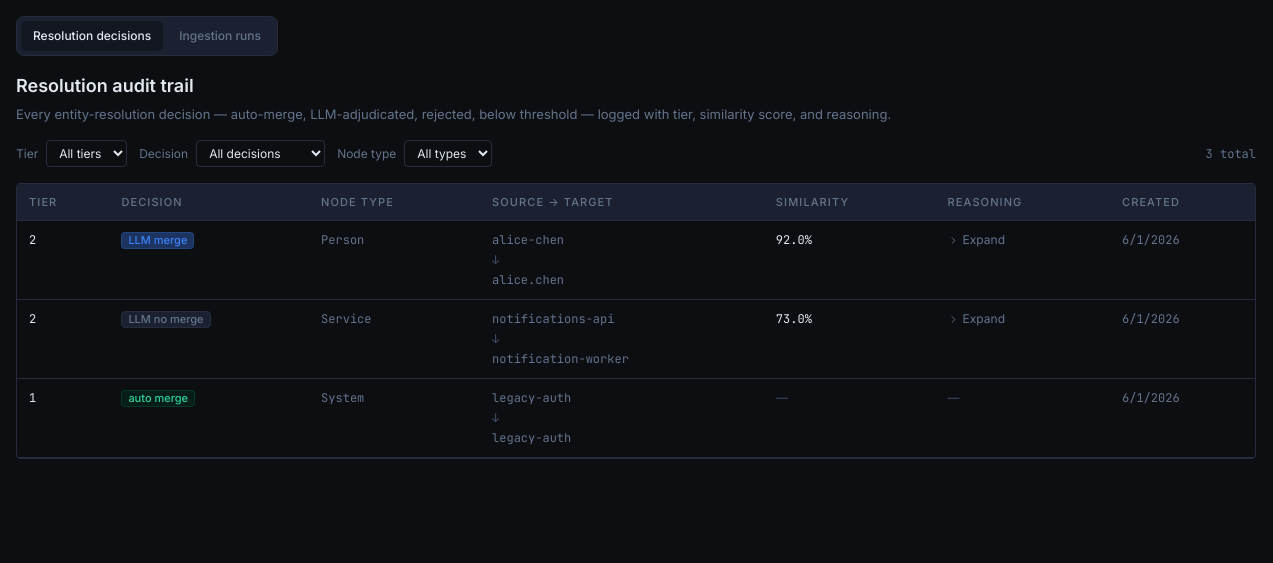
Test: Audit › expands LLM reasoning on row click
expect the text "Expand" in the row of "LLM merge" is shown: met, box [963,232,1005,247]
Click the button "Expand" in the row of "LLM merge".
click(976, 240)  # box [948,231,1005,249]
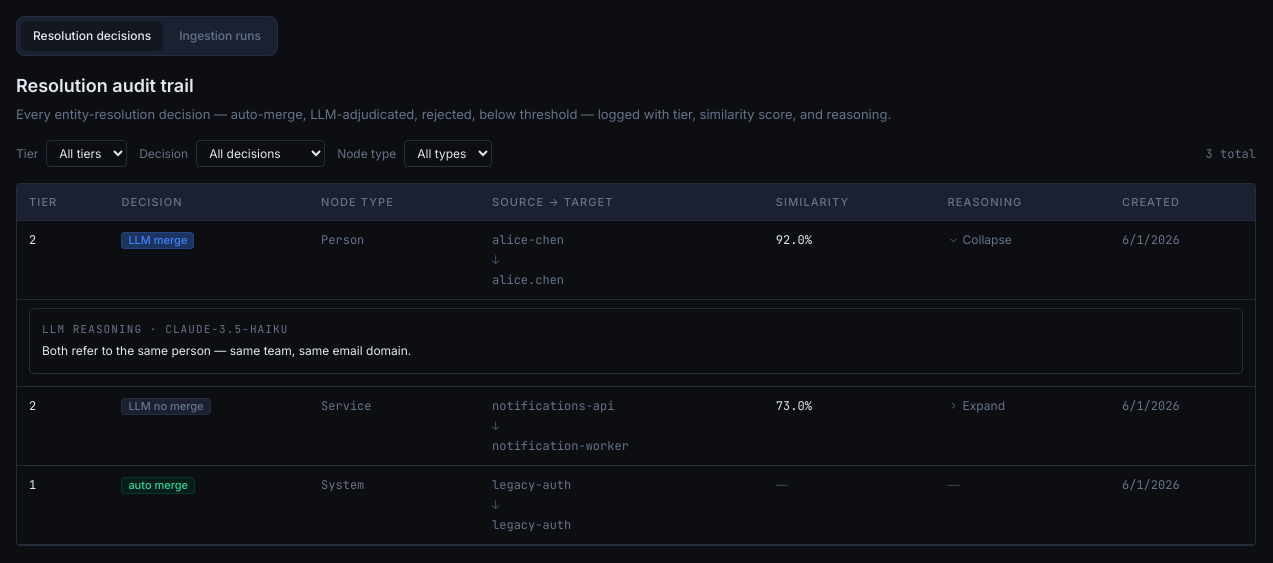
expect the text "Both refer to the same person" is shown: met, box [42,343,411,358]
